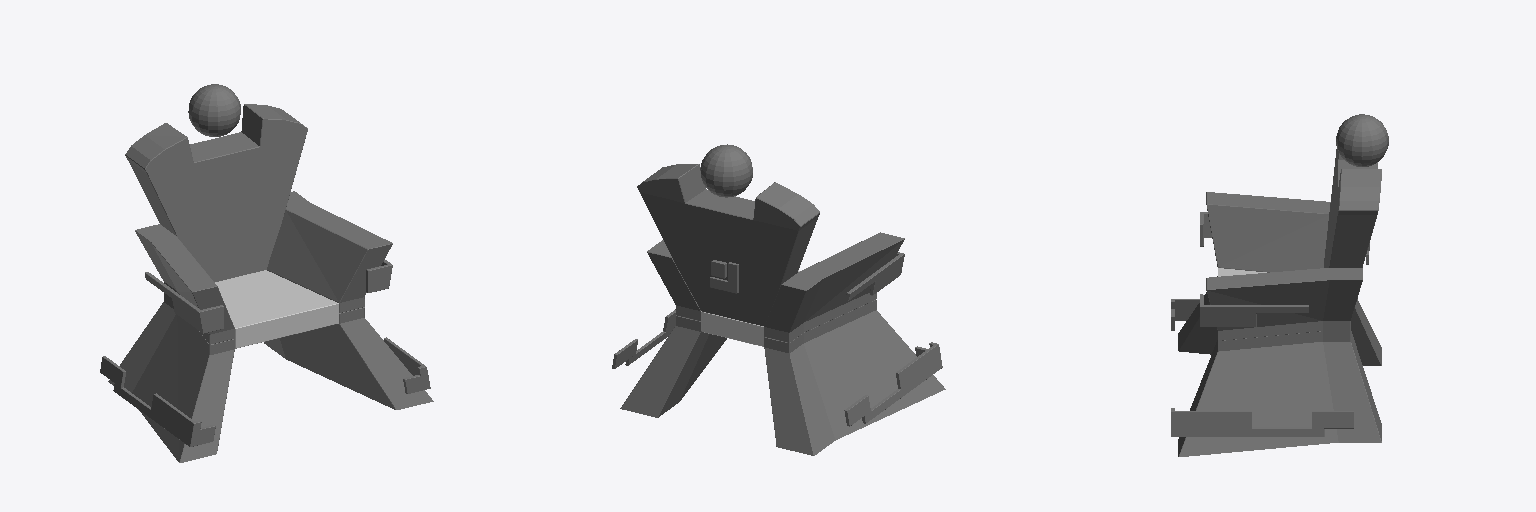
Rendered from Throne_emptyMESH.obj.
3 renders of one model, left to right at view 1: azimuth 30°, elevation 25°; view 2: azimuth 150°, elevation 25°; view 3: azimuth 270°, elevation 25°, orthographic.
Parts seen in each view (by area): view 1: BACKREST_MESH1, GOLDPIECE_DOWN_MESH1, ARM_L_MESH1, LEG_L_MESH1, CUSHION_MESH1, ARM_R_MESH1, GOLDPIECE_DOWN_R_MESH1, SPHERE_MESH1, GOLDPIECE_UP_R_MESH1, GOLDPIECE_DOWN_L_MESH1, GOLDPIECE_UP_MESH1; view 2: BACKREST_MESH1, GOLDPIECE_DOWN_MESH1, ARM_R_MESH1, LEG_L_MESH1, GOLDPIECE_DOWN_R_MESH1, SPHERE_MESH1, ARM_L_MESH1, CUSHION_MESH1, GOLDPIECE_UP_R_MESH1, GOLDPIECE_DOWN_L_MESH1, GOLDPIECE_BACK_MESH1; view 3: LEG_L_MESH1, ARM_R_MESH1, ARM_L_MESH1, BACKREST_MESH1, GOLDPIECE_DOWN_L_MESH1, GOLDPIECE_DOWN_MESH1, SPHERE_MESH1, GOLDPIECE_UP_MESH1, GOLDPIECE_DOWN_R_MESH1.
Boxes of the visible parts, box(x1,y1,x2,y2) form: BACKREST_MESH1: box(125, 104, 307, 281); GOLDPIECE_DOWN_MESH1: box(108, 293, 234, 462); ARM_L_MESH1: box(267, 191, 392, 312); LEG_L_MESH1: box(264, 307, 433, 409); CUSHION_MESH1: box(215, 270, 338, 348); ARM_R_MESH1: box(135, 224, 234, 344); GOLDPIECE_DOWN_R_MESH1: box(100, 356, 215, 446); SPHERE_MESH1: box(188, 84, 240, 136); GOLDPIECE_UP_R_MESH1: box(145, 272, 223, 333); GOLDPIECE_DOWN_L_MESH1: box(384, 337, 430, 393); GOLDPIECE_UP_MESH1: box(366, 260, 392, 292); BACKREST_MESH1: box(637, 164, 819, 325); GOLDPIECE_DOWN_MESH1: box(764, 300, 945, 455); ARM_R_MESH1: box(764, 232, 904, 342); LEG_L_MESH1: box(620, 315, 726, 417); GOLDPIECE_DOWN_R_MESH1: box(844, 342, 942, 426); SPHERE_MESH1: box(700, 144, 752, 197); ARM_L_MESH1: box(647, 240, 700, 320); CUSHION_MESH1: box(701, 270, 799, 346); GOLDPIECE_UP_R_MESH1: box(846, 252, 904, 300); GOLDPIECE_DOWN_L_MESH1: box(612, 309, 675, 368); GOLDPIECE_BACK_MESH1: box(710, 260, 738, 293); LEG_L_MESH1: box(1178, 331, 1381, 456); ARM_R_MESH1: box(1206, 192, 1330, 272); ARM_L_MESH1: box(1206, 268, 1362, 340); BACKREST_MESH1: box(1324, 127, 1381, 267); GOLDPIECE_DOWN_L_MESH1: box(1171, 408, 1353, 436); GOLDPIECE_DOWN_MESH1: box(1178, 276, 1381, 365); SPHERE_MESH1: box(1336, 114, 1388, 166); GOLDPIECE_UP_MESH1: box(1200, 294, 1308, 326); GOLDPIECE_DOWN_R_MESH1: box(1171, 299, 1199, 330).
Size of the model in its own units: 193 by 202 by 143.